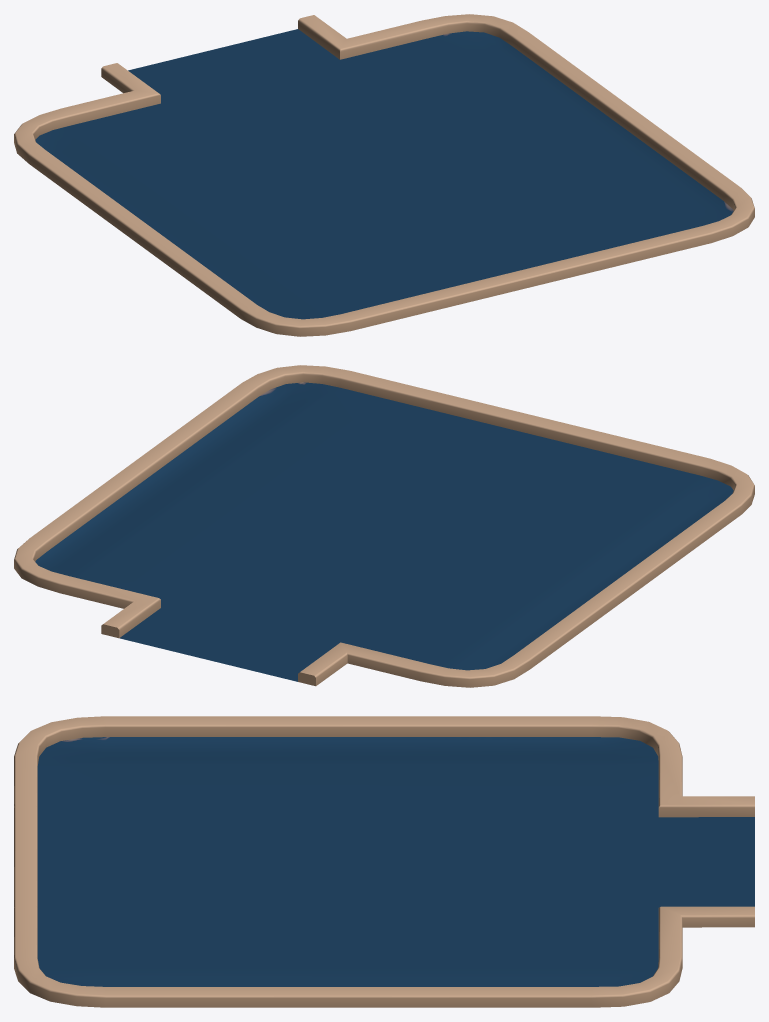
Rendered from PokemonMonster_Landing_RoadStage2.fbx.
3 views of the same model, one above another, from view 1: azimuth 30°, elevation 25°; view 2: azimuth 150°, elevation 25°; view 3: azimuth 270°, elevation 25° (orthographic). The views are drawn at different scales.
Visible parts, largest first — view 1: Road_stage_65; view 2: Road_stage_65; view 3: Road_stage_65.
Part boxes in pixels (x1=…): Road_stage_65: x1=14, y1=14, x2=754, y2=336; Road_stage_65: x1=14, y1=365, x2=754, y2=687; Road_stage_65: x1=14, y1=716, x2=754, y2=1007.
Size of the model in its own units: 1400 by 37.08 by 1562.
Materials: 1 (1 with a texture image).
